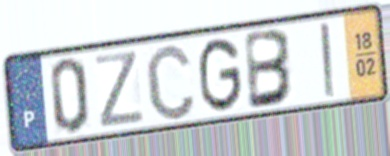0: (48, 54, 92, 137)
B: (243, 26, 297, 113)
C: (143, 41, 199, 124)
G: (197, 35, 245, 116)
I: (317, 20, 339, 101)
Z: (92, 48, 148, 131)
